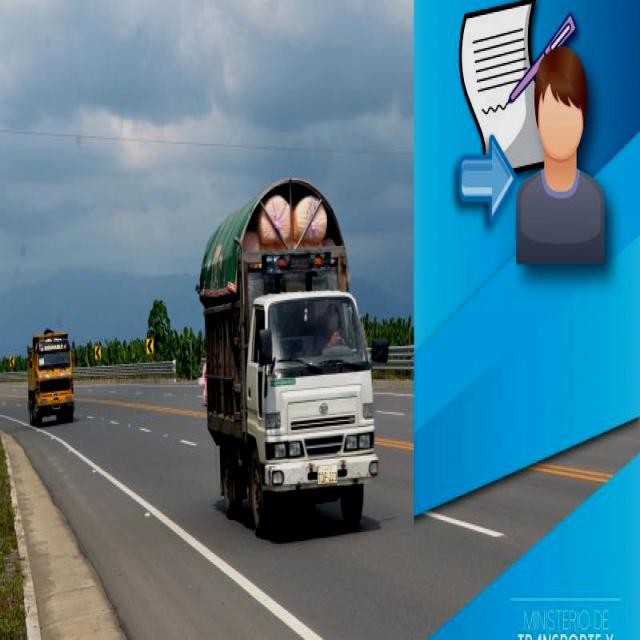TRUCK: (203, 187, 381, 543), (24, 332, 74, 431)
